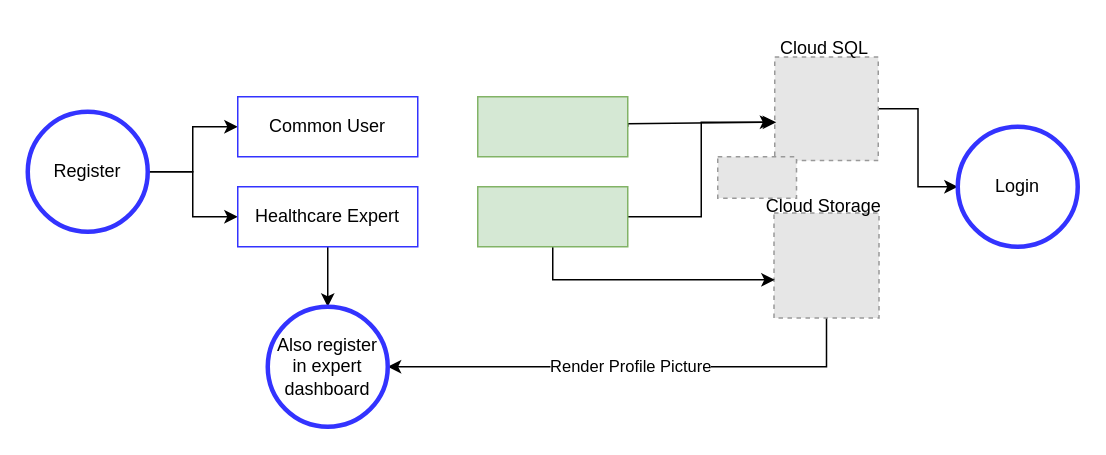
This 1106x455 diagram has some shape labels left out. Grey dashed boxes stand in for pictures. The box of each missing label's shape, as (x1, y1, x2, y2) in pixels:
Sava Data: (476, 95, 628, 157)
Save Data & Media File (Picture): (476, 185, 628, 247)
